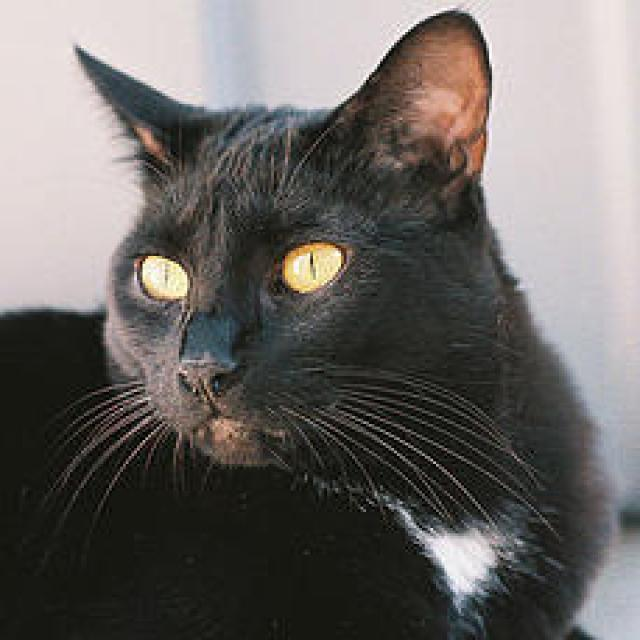Bombay: (70, 10, 500, 487)
